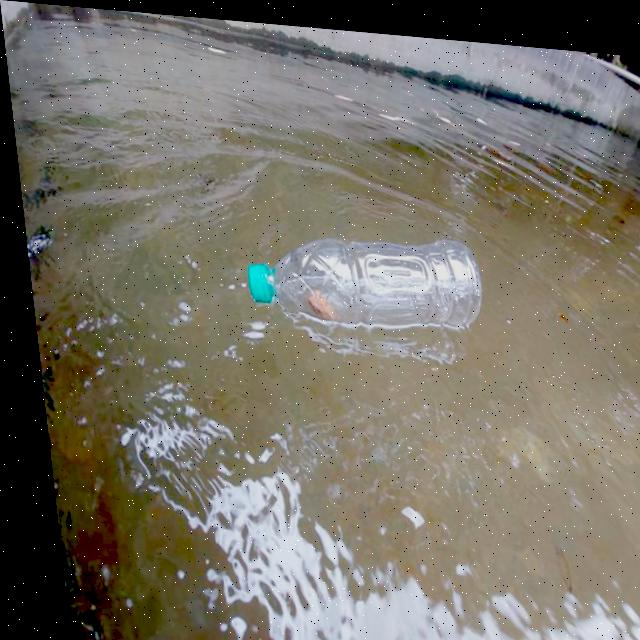waterbottle: (220, 203, 499, 360)
